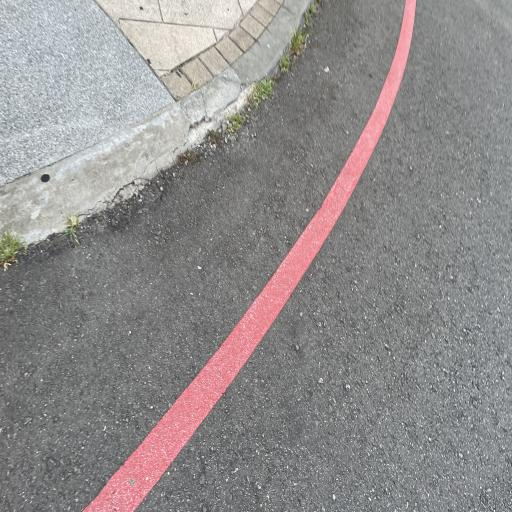redline: (79, 0, 422, 510)
